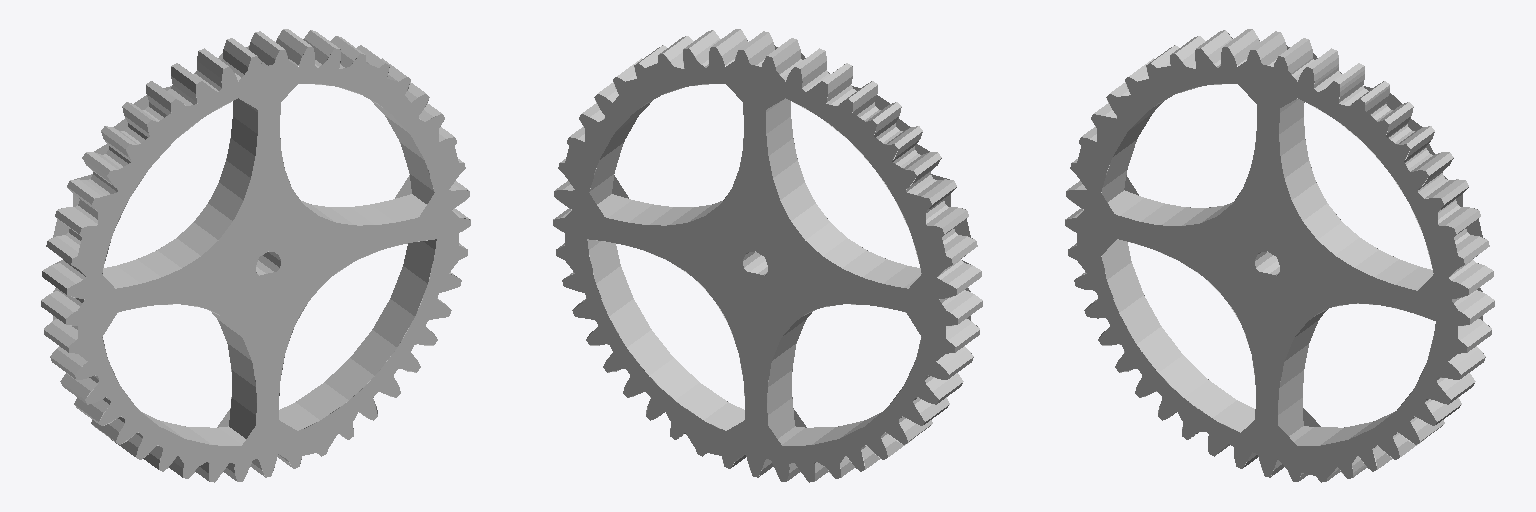
Rendered from fortyfive.obj.
3 renders of one model, left to right at view 1: azimuth 30°, elevation 25°; view 2: azimuth 150°, elevation 25°; view 3: azimuth 330°, elevation 25°, orthographic.
Bounding box in the file's own units: 0.4172 × 0.417 × 0.0444.